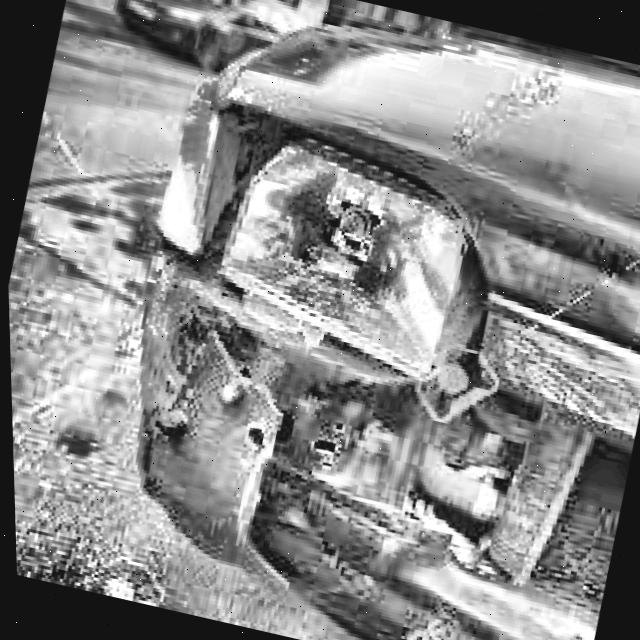head_lamp: (133, 102, 521, 396)
